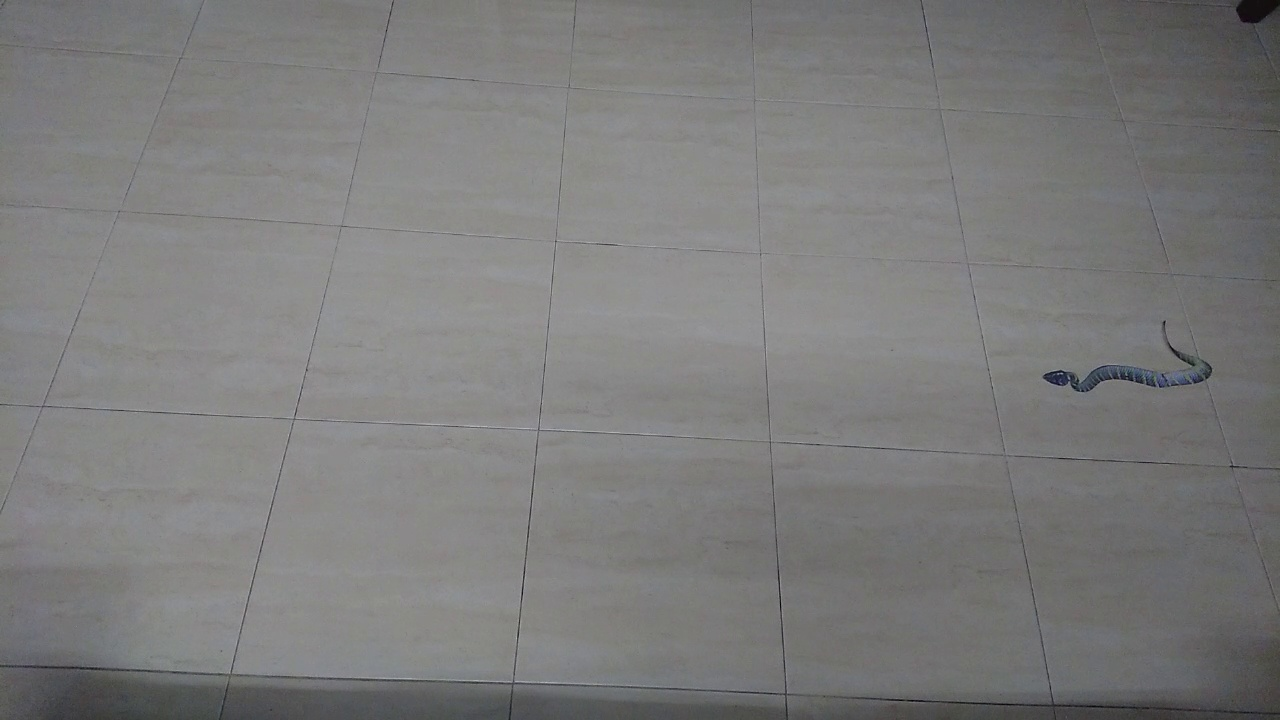snake: (1026, 304, 1231, 413)
